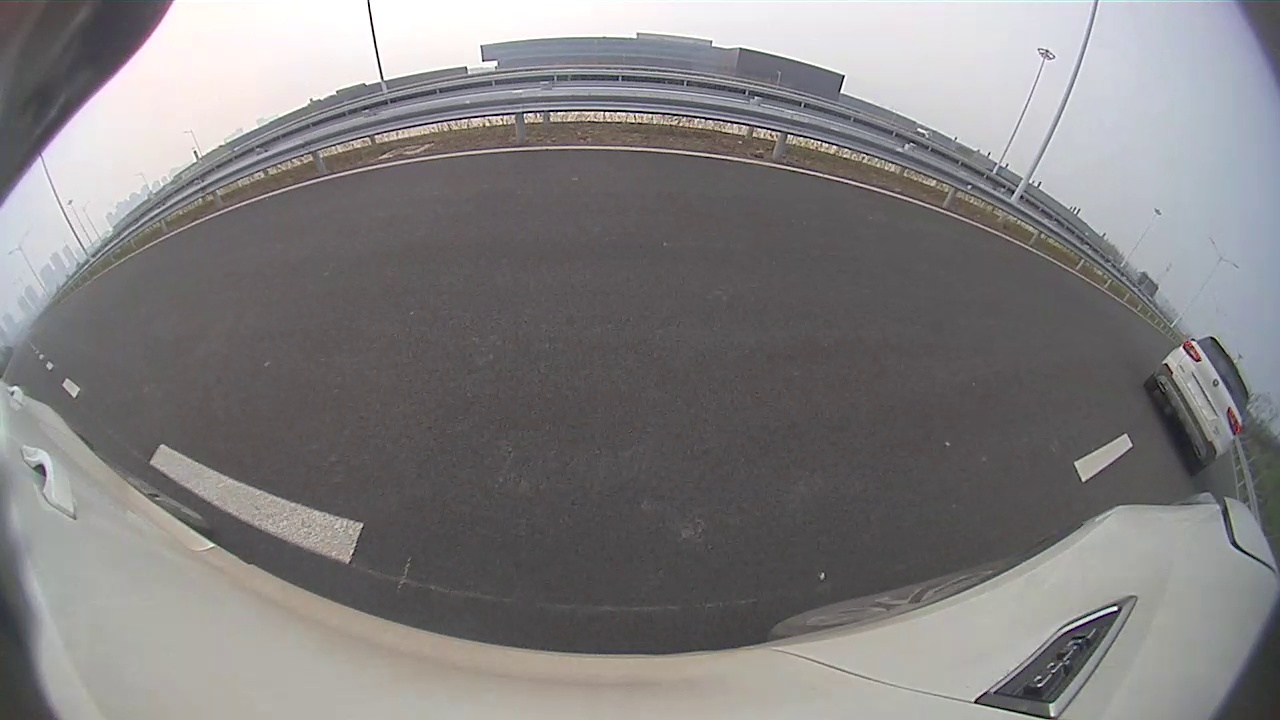car: (615, 149, 663, 190)
